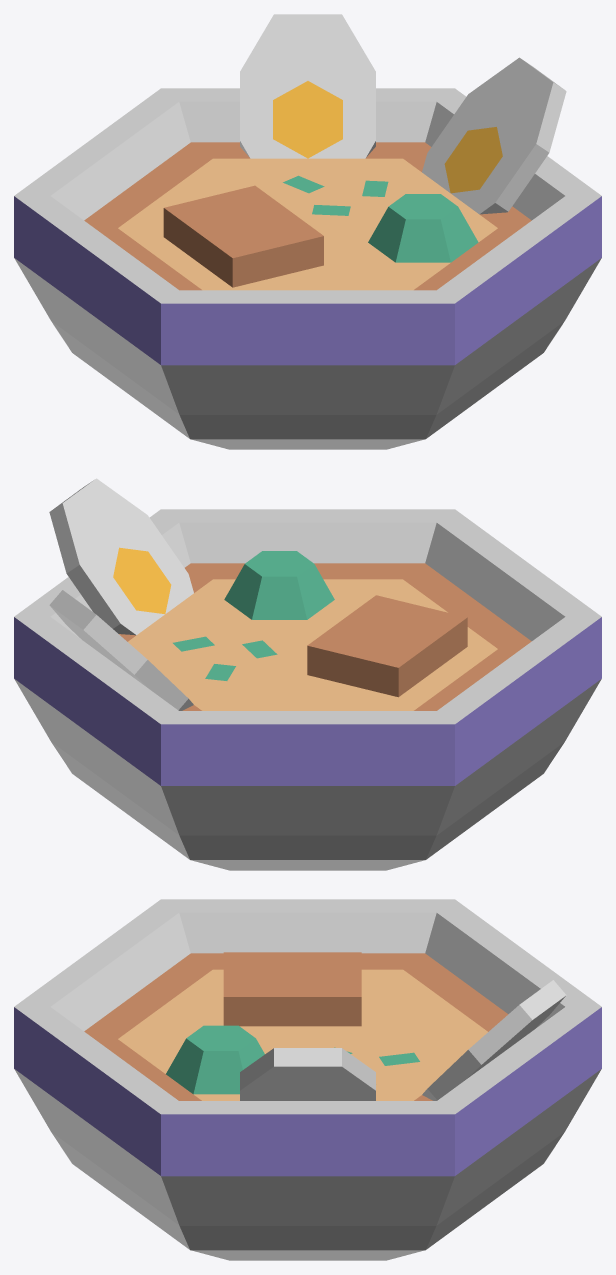
File: bowlBroth.obj
3 renders of one model, top to bottom at view 1: azimuth 30°, elevation 25°; view 2: azimuth 150°, elevation 25°; view 3: azimuth 270°, elevation 25°, orthographic.
Parts seen in each view (by area): view 1: bowlBroth, Group; view 2: bowlBroth, Group; view 3: bowlBroth, Group.
Boxes of the visible parts, <box> form: bowlBroth: <box>14,88,601,449</box>; Group: <box>240,14,566,214</box>; bowlBroth: <box>14,509,601,870</box>; Group: <box>49,478,193,710</box>; bowlBroth: <box>14,899,601,1260</box>; Group: <box>240,980,566,1100</box>.
Bounding box in the file's own units: 0.5262 × 0.2903 × 0.5798.
